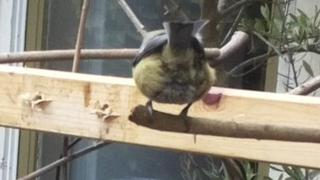blue tit: (131, 21, 216, 133)
